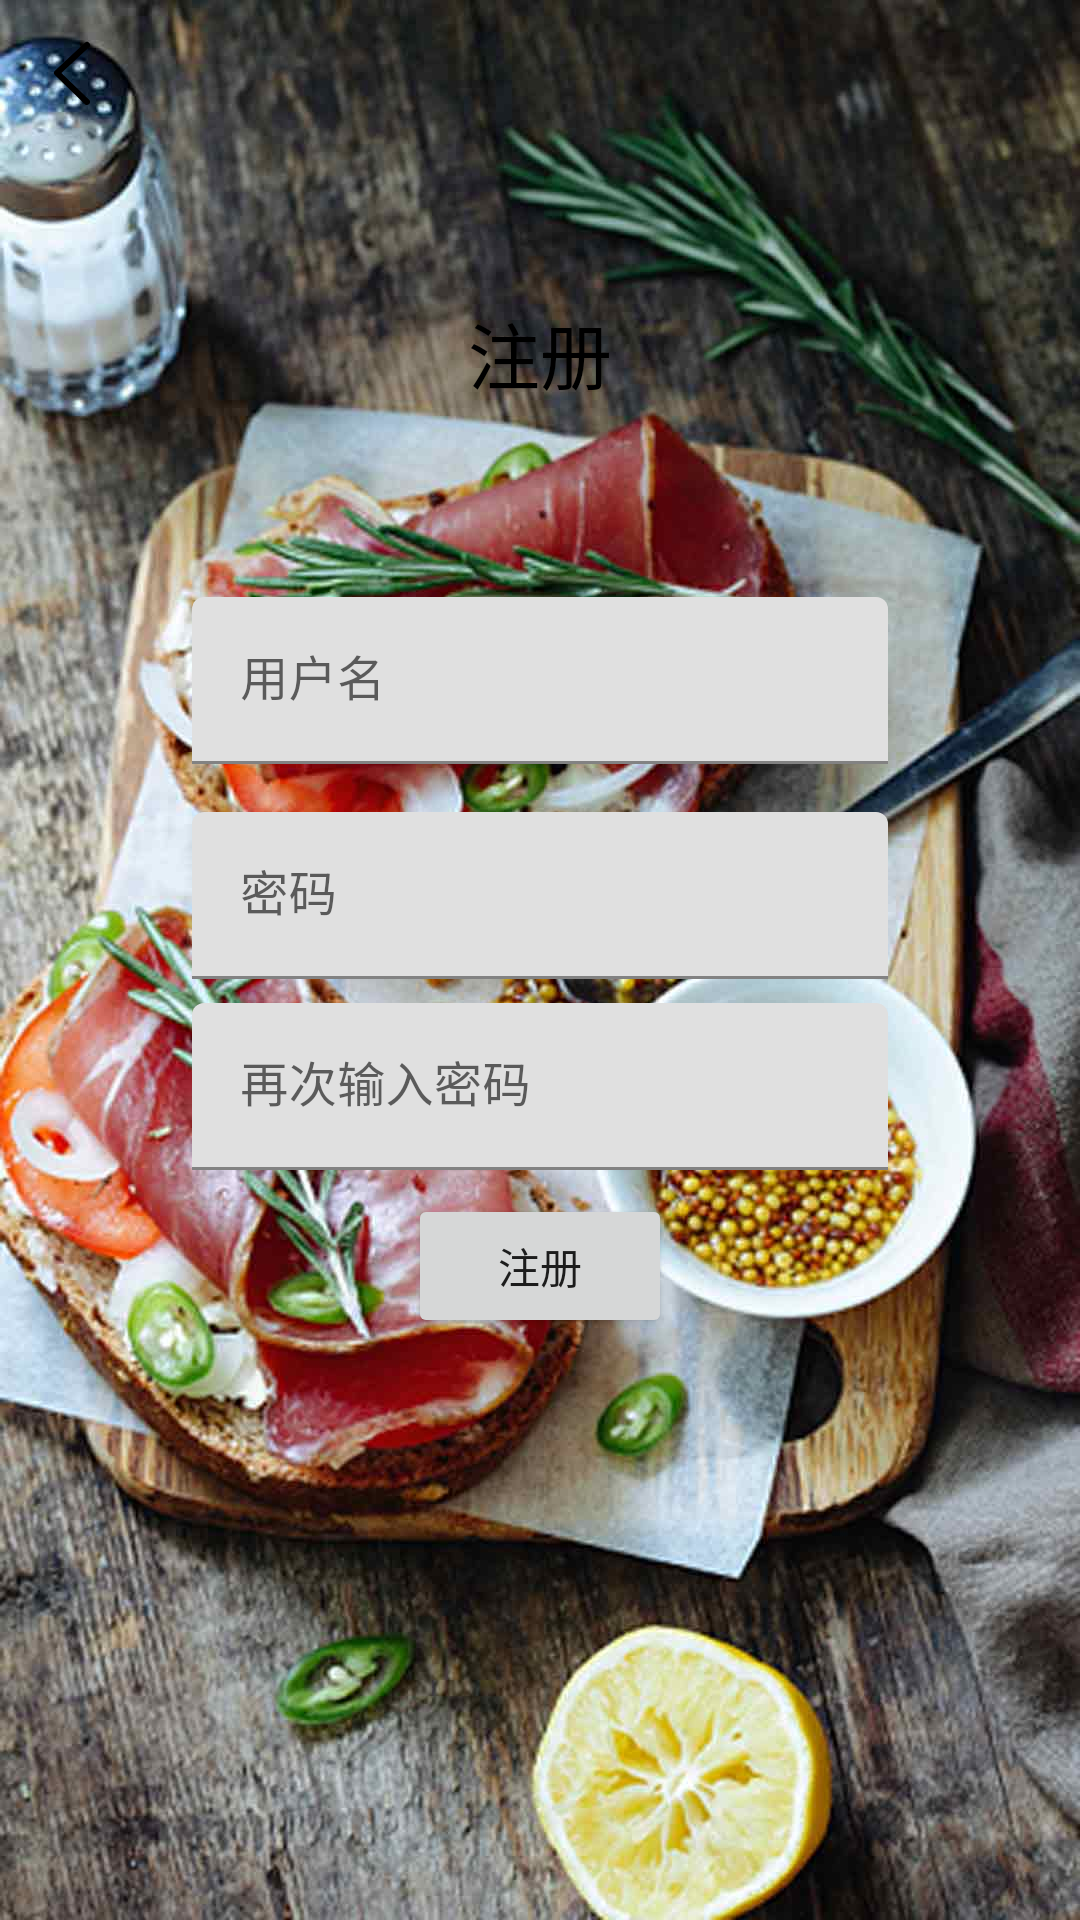

Icon click points for this 1080 x 1920 phone screenshot, format [x,y]:
return: [72,72]
